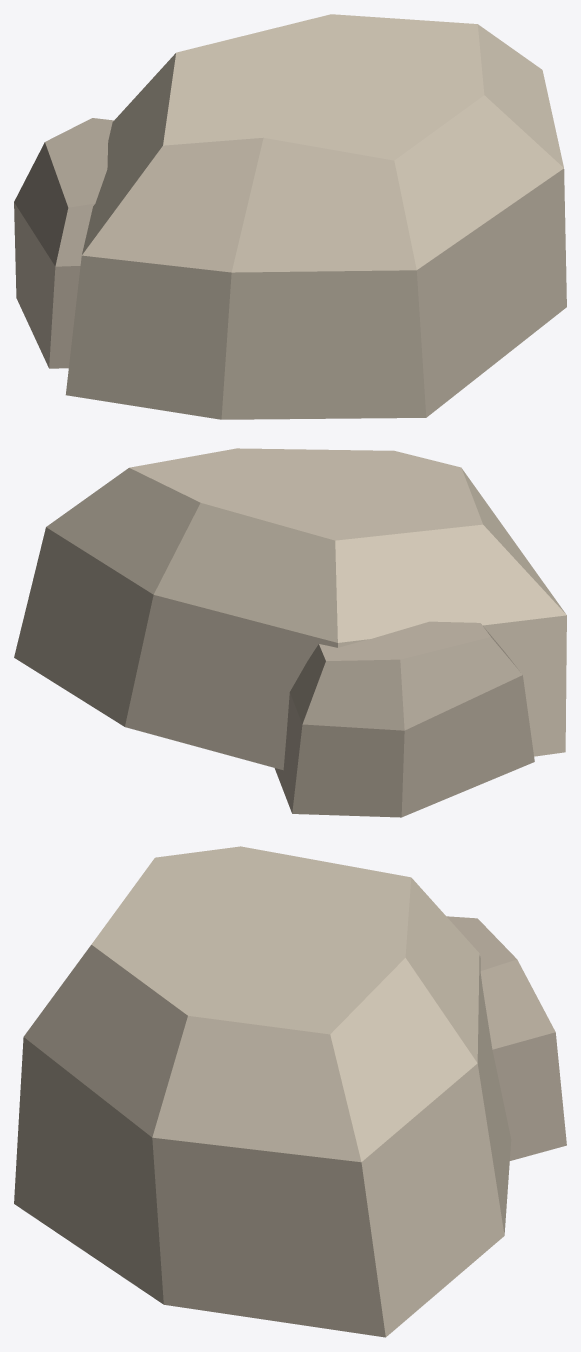
File: boulder_medium.glb
3 views of the same model, one above another, from view 1: azimuth 30°, elevation 25°; view 2: azimuth 150°, elevation 25°; view 3: azimuth 270°, elevation 25° (orthographic). The views are drawn at different scales.
Parts seen in each view (by area): view 1: boulder_medium; view 2: boulder_medium; view 3: boulder_medium.
Boxes of the visible parts, box(x1,y1,x2,y2) form: boulder_medium: box(14, 14, 566, 419); boulder_medium: box(14, 448, 566, 817); boulder_medium: box(14, 846, 566, 1337).
Size of the model in its own units: 1.62 by 0.7225 by 1.24.
